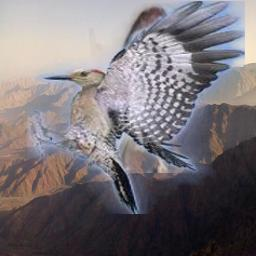Sparrow: (89, 3, 191, 173)
Woodpecker: (27, 1, 245, 214)
